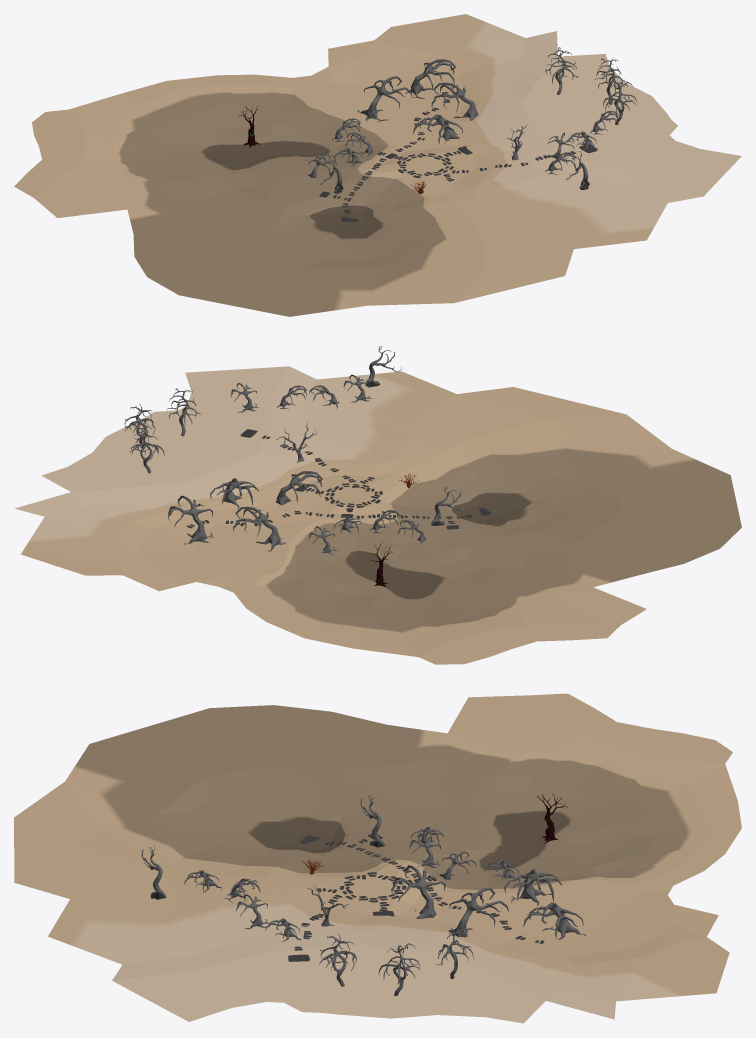
The model's file is lowerTerrainB_paths.glb.
The picture shows the model from 3 angles, top to bottom: view 1: azimuth 30°, elevation 25°; view 2: azimuth 150°, elevation 25°; view 3: azimuth 270°, elevation 25°; orthographic projection. The views are drawn at different scales.
Visible parts, largest first — view 1: lowerTerrain, HWN20_Tree_07.003, HWN20_Tree_07, HWN20_Tree_07.001, HWN20_Tree_07.002; view 2: lowerTerrain, HWN20_Tree_07, HWN20_Tree_07.003, HWN20_Tree_07.002, HWN20_Tree_07.001; view 3: lowerTerrain, HWN20_Tree_07.002, HWN20_Tree_07.003, HWN20_Tree_07, HWN20_Tree_07.001, HWN20_Tree_08.002, HWN20_Tree_08.
Boxes of the visible parts, <box> form: lowerTerrain: <box>14,14,741,316</box>; HWN20_Tree_07.003: <box>357,76,412,122</box>; HWN20_Tree_07: <box>405,59,455,98</box>; HWN20_Tree_07.001: <box>431,82,478,120</box>; HWN20_Tree_07.002: <box>412,114,462,144</box>; lowerTerrain: <box>14,366,741,664</box>; HWN20_Tree_07: <box>168,495,214,544</box>; HWN20_Tree_07.003: <box>233,506,285,551</box>; HWN20_Tree_07.002: <box>276,471,322,509</box>; HWN20_Tree_07.001: <box>210,478,258,509</box>; lowerTerrain: <box>14,693,741,1023</box>; HWN20_Tree_07.002: <box>391,865,445,918</box>; HWN20_Tree_07.003: <box>504,869,561,905</box>; HWN20_Tree_07: <box>523,902,585,939</box>; HWN20_Tree_07.001: <box>448,887,509,937</box>; HWN20_Tree_08.002: <box>378,943,419,996</box>; HWN20_Tree_08: <box>319,932,356,986</box>.
Size of what is drawn, in the model's own units: 146 by 18.67 by 133.
Materials: 12 (12 with a texture image).
